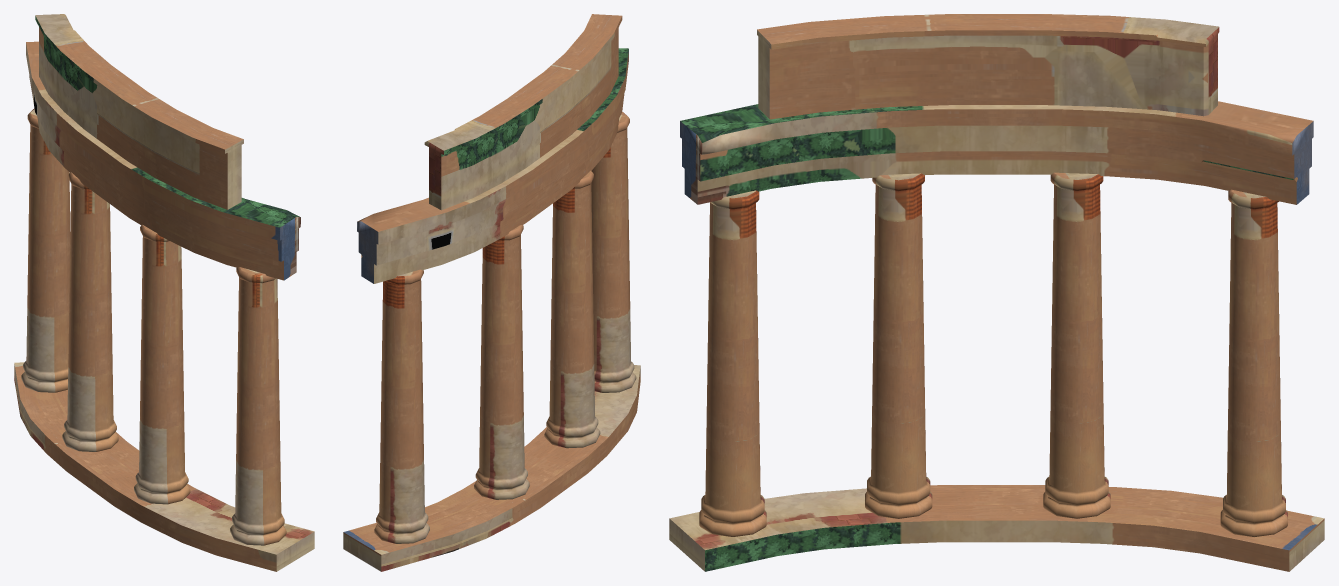
The model's file is SM_ColumnArch1.fbx.
3 renders of one model, left to right at view 1: azimuth 30°, elevation 25°; view 2: azimuth 150°, elevation 25°; view 3: azimuth 270°, elevation 25°, orthographic. The views are drawn at different scales.
Parts seen in each view (by area): view 1: ruines2_pCylinder484; view 2: ruines2_pCylinder484; view 3: ruines2_pCylinder484.
Part boxes in pixels (left/top/right/bottom): ruines2_pCylinder484: left=14, top=14, right=314, bottom=571; ruines2_pCylinder484: left=343, top=14, right=640, bottom=571; ruines2_pCylinder484: left=669, top=14, right=1324, bottom=571.
Size of the model in its own units: 1.47 by 5.25 by 6.23.
